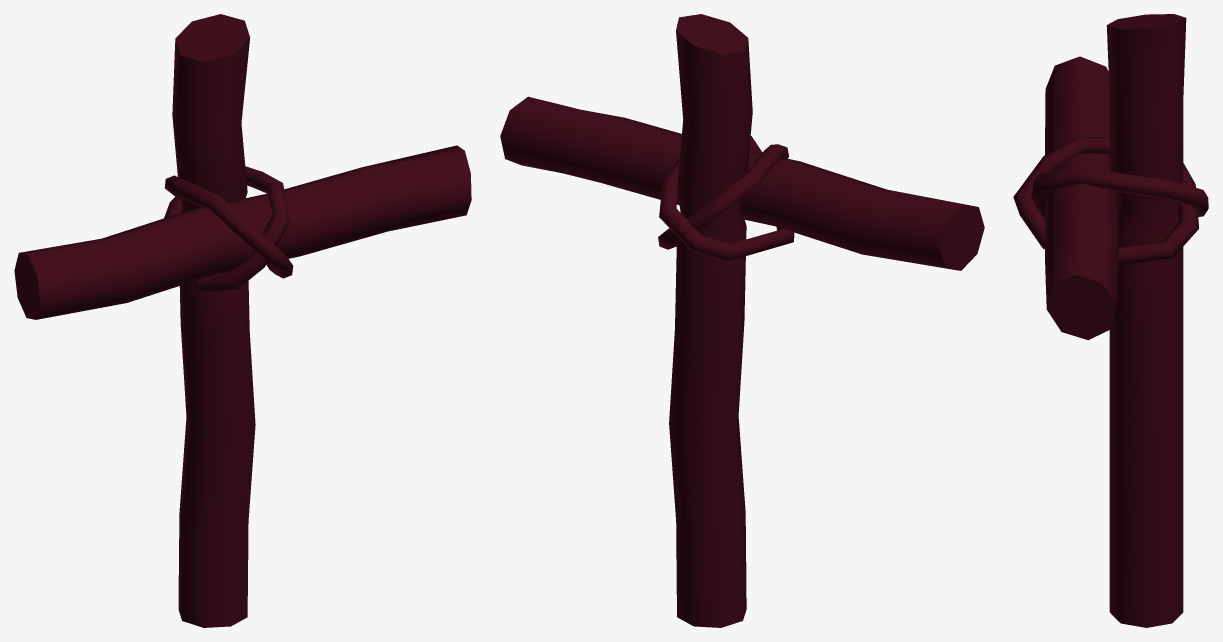
File: Tomb_4.fbx
The picture shows the model from 3 angles, left to right: view 1: azimuth 30°, elevation 25°; view 2: azimuth 150°, elevation 25°; view 3: azimuth 270°, elevation 25°; orthographic projection. The views are drawn at different scales.
Visible parts, largest first — view 1: Tomb_4; view 2: Tomb_4; view 3: Tomb_4.
Boxes of the visible parts, left/top/right/bottom form: Tomb_4: left=14, top=14, right=471, bottom=627; Tomb_4: left=500, top=14, right=984, bottom=627; Tomb_4: left=1013, top=14, right=1208, bottom=627.
Size of the model in its own units: 8.26 by 10.32 by 3.05.
